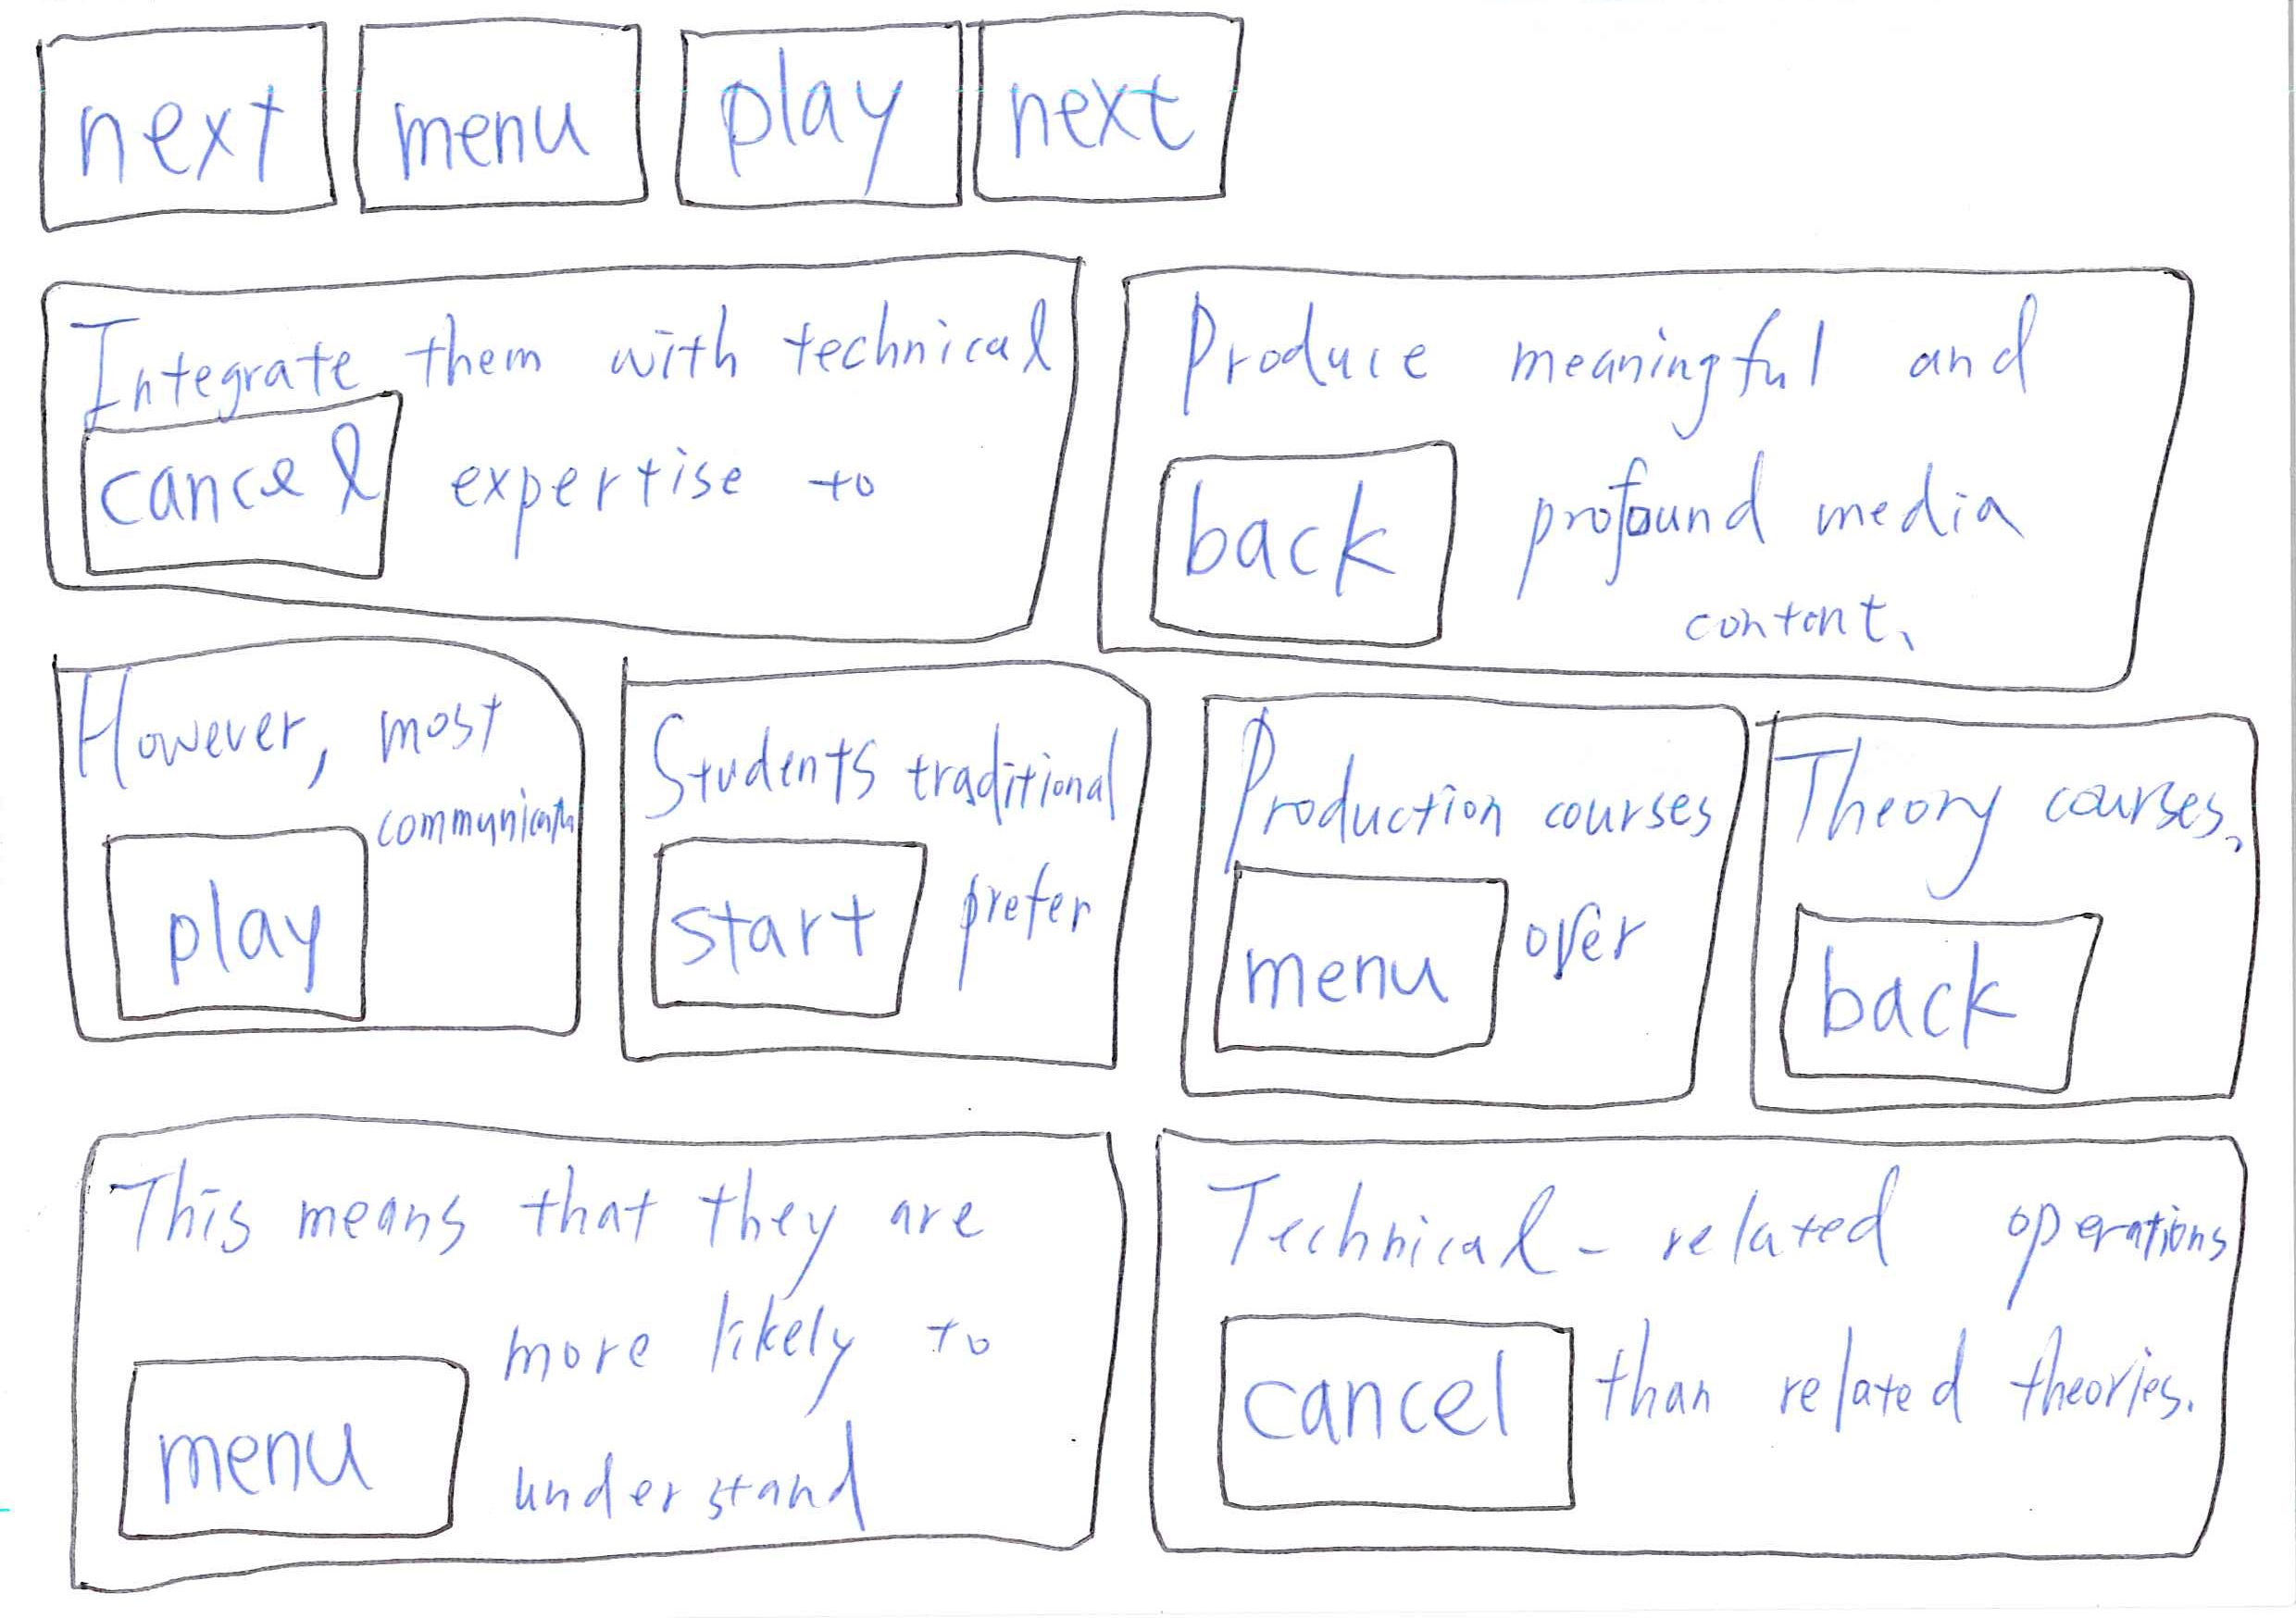back: (1128, 433, 1478, 660), (1771, 890, 2142, 1103)
cancel: (1189, 1296, 1597, 1534), (63, 380, 405, 590)
menu: (96, 1329, 499, 1555), (336, 9, 673, 256), (1177, 846, 1513, 1077)
next: (26, 12, 349, 257), (958, 5, 1277, 242)
play: (667, 2, 984, 250), (95, 804, 394, 1044)
row: (26, 1107, 2296, 1618), (9, 243, 2296, 735), (9, 674, 2294, 1138), (9, 19, 2296, 249)
small-title: (1217, 1170, 2224, 1303), (81, 299, 1063, 424), (1159, 284, 2067, 415), (107, 1168, 1012, 1280), (632, 704, 1110, 820), (1247, 723, 1709, 834), (74, 671, 518, 767), (1802, 762, 2236, 858)
start: (625, 828, 949, 1037)
text: (1483, 443, 2051, 664), (506, 1301, 1044, 1515), (445, 429, 965, 567), (1618, 1324, 2196, 1443), (1534, 869, 1678, 1010), (366, 788, 573, 874), (951, 855, 1096, 974)
